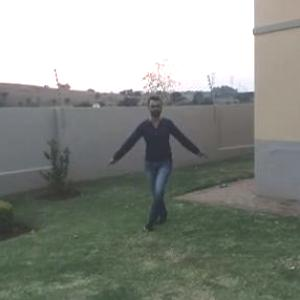land: (103, 90, 210, 227)
